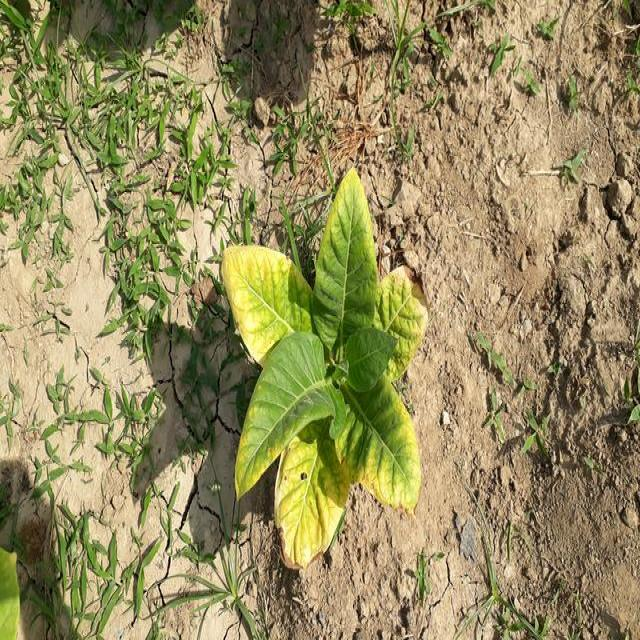crop: (218, 205, 444, 568)
